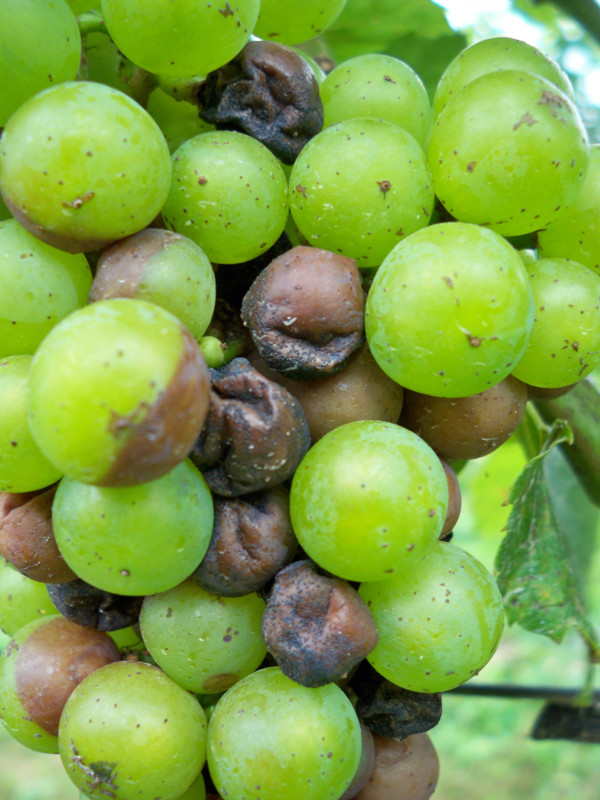Diseased: (27, 297, 209, 484), (0, 80, 172, 256), (362, 222, 529, 396), (433, 68, 587, 235), (296, 423, 441, 583), (359, 540, 505, 694), (53, 460, 215, 591), (290, 123, 434, 268), (212, 668, 366, 799), (58, 664, 207, 796), (241, 245, 364, 380), (171, 130, 287, 272), (3, 621, 122, 745), (0, 215, 96, 360), (93, 231, 215, 345), (140, 586, 267, 693), (200, 376, 310, 495), (271, 565, 378, 685), (204, 41, 324, 148), (100, 1, 261, 80), (506, 261, 600, 391), (401, 368, 530, 462), (319, 52, 434, 153), (201, 492, 292, 589), (0, 0, 84, 104), (438, 35, 576, 95), (0, 482, 69, 585), (303, 363, 401, 433), (541, 144, 600, 257), (356, 728, 437, 800), (362, 672, 442, 729), (257, 0, 350, 39), (46, 582, 129, 622)
